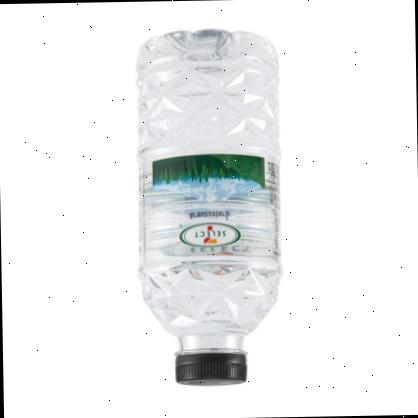bottle: (135, 28, 288, 389)
cap: (173, 348, 250, 386)
label: (142, 150, 281, 270)
